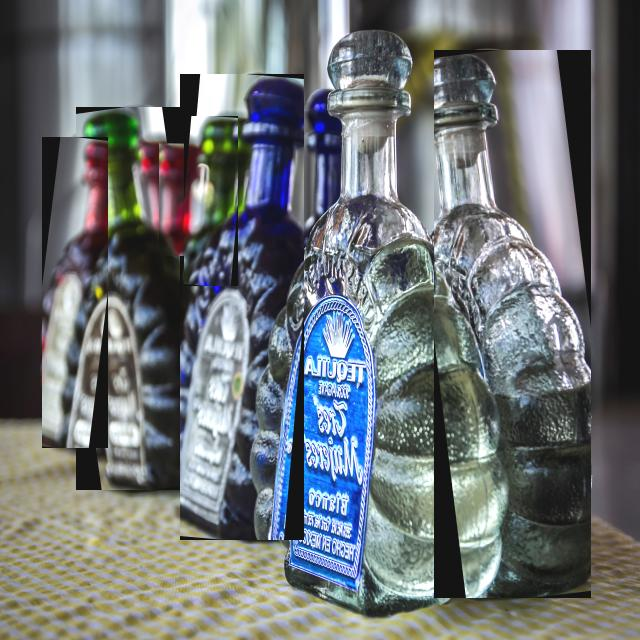Bottle: (264, 31, 486, 615), (433, 50, 590, 598), (180, 74, 302, 540), (76, 107, 188, 490), (41, 138, 107, 447), (183, 117, 236, 285), (301, 90, 340, 239), (159, 143, 194, 255)
